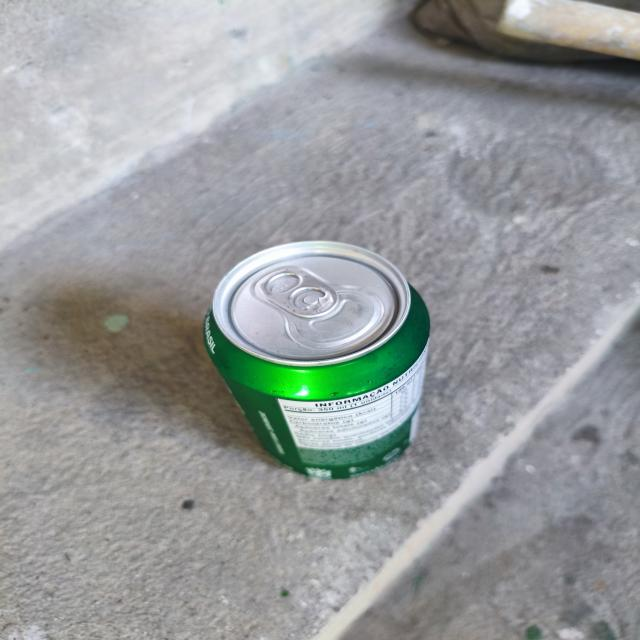Guarana: (188, 233, 447, 489)
